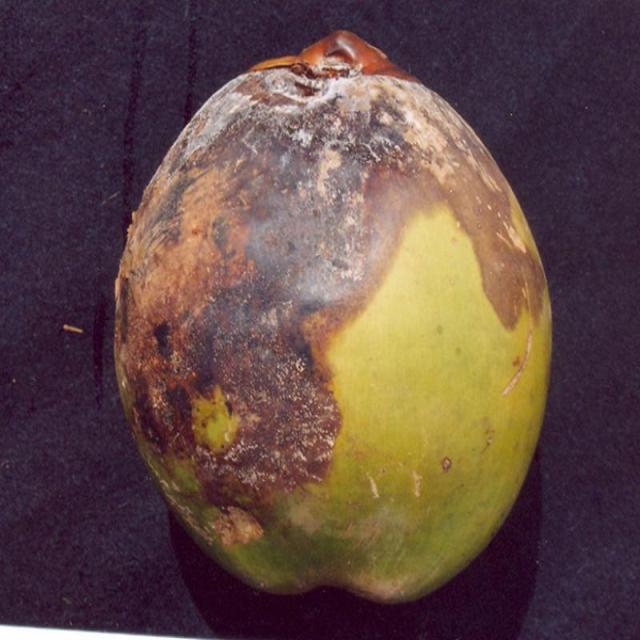damaged: (112, 31, 554, 609)
